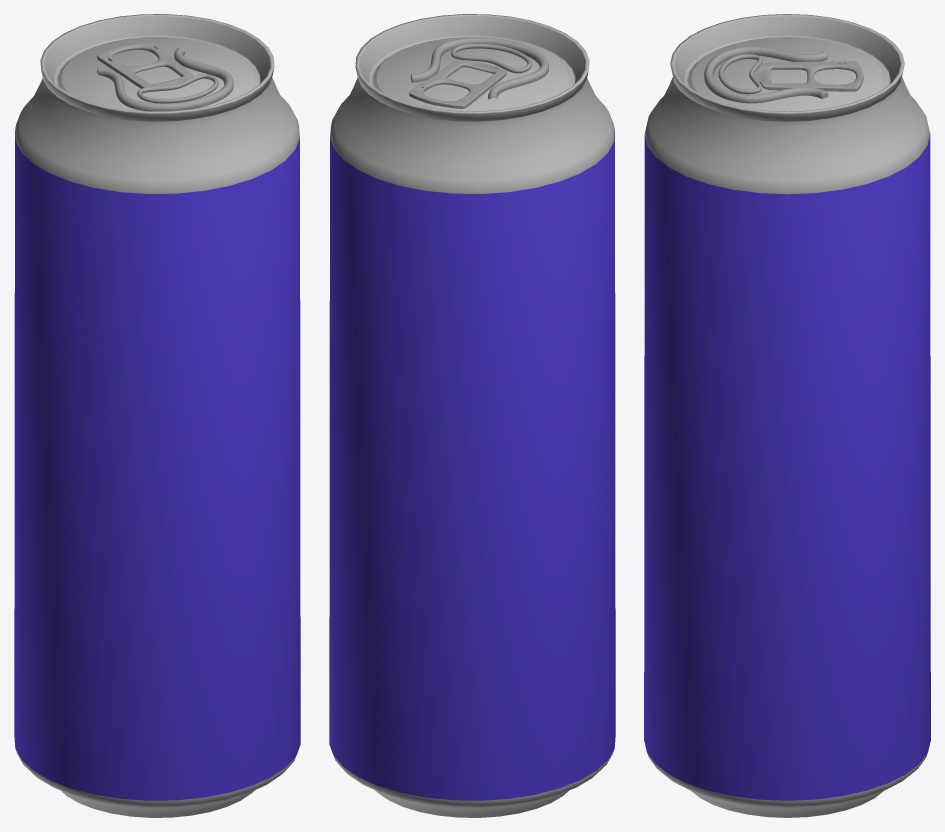
File: can.fbx
The picture shows the model from 3 angles, left to right: view 1: azimuth 30°, elevation 25°; view 2: azimuth 150°, elevation 25°; view 3: azimuth 270°, elevation 25°; orthographic projection.
Parts seen in each view (by area): view 1: can, curve, cap; view 2: can, curve, cap; view 3: can, curve, cap.
Boxes of the visible parts, left/top/right/bottom form: can: left=14, top=14, right=300, bottom=817; curve: left=97, top=47, right=233, bottom=111; cap: left=97, top=41, right=193, bottom=88; can: left=329, top=14, right=615, bottom=817; curve: left=410, top=37, right=548, bottom=99; cap: left=409, top=59, right=506, bottom=108; can: left=644, top=14, right=930, bottom=817; curve: left=704, top=46, right=828, bottom=103; cap: left=755, top=61, right=863, bottom=91.
Size of the model in its own units: 98.06 by 268 by 98.06.
